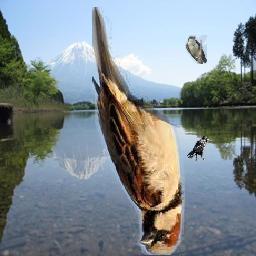Crow: (187, 135, 210, 161)
Swallow: (93, 7, 186, 255), (185, 36, 207, 65)
